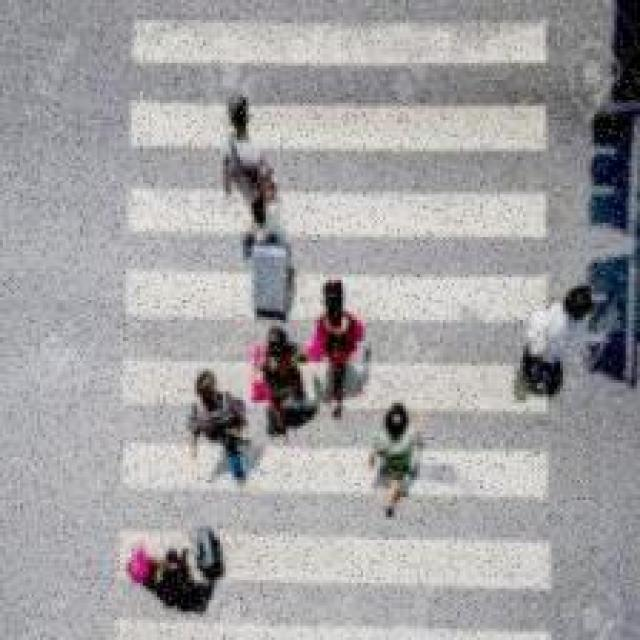zebra: (112, 6, 557, 638)
